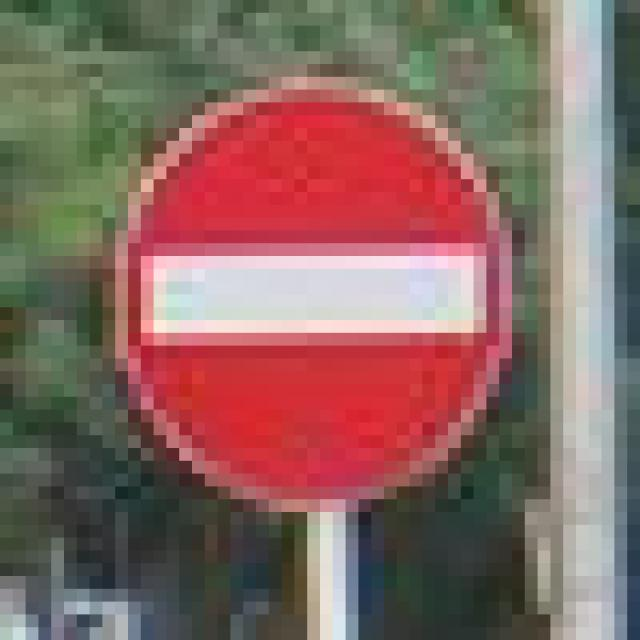NO_ENTRY: (90, 64, 499, 499)
